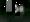person: (17, 3, 24, 17), (7, 2, 13, 16)
